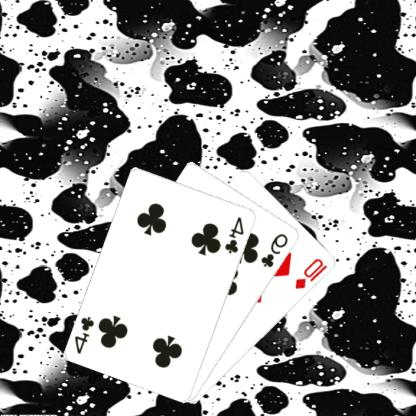10D: (295, 256, 330, 291)
4C: (74, 313, 97, 355), (224, 214, 247, 255)
9C: (260, 230, 291, 269)
